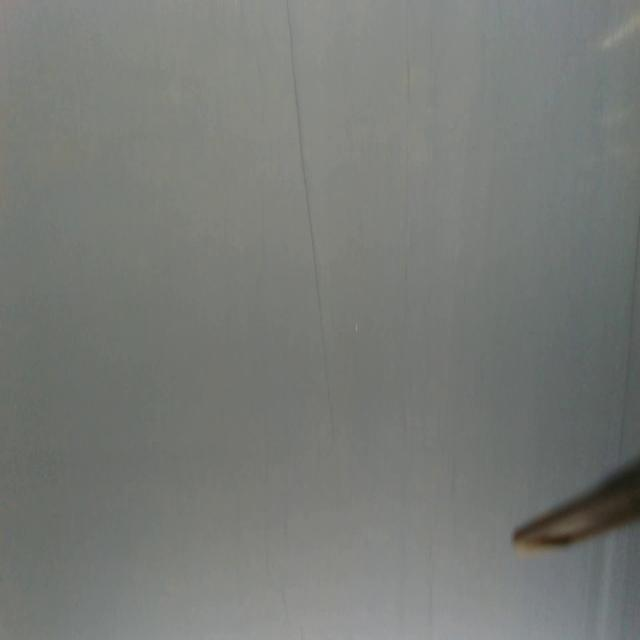crease: (282, 0, 332, 433), (395, 0, 414, 639), (616, 213, 640, 460)
hole: (354, 317, 360, 338)
